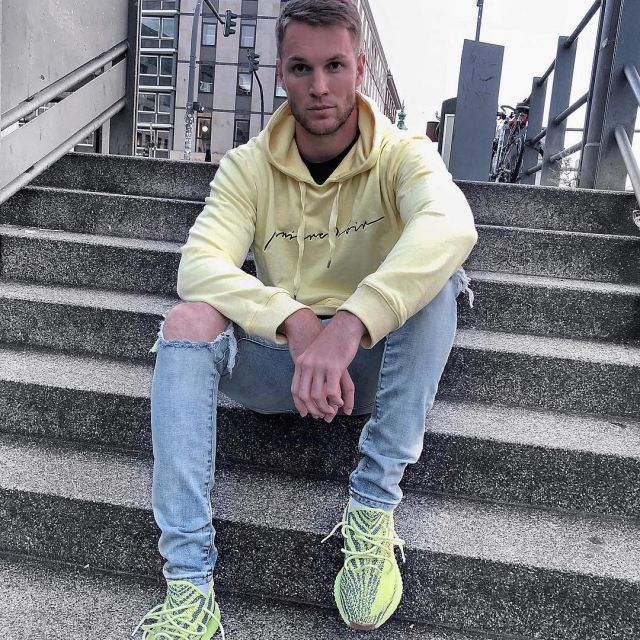Yeezy Semi-Frozen: (325, 486, 412, 631)
